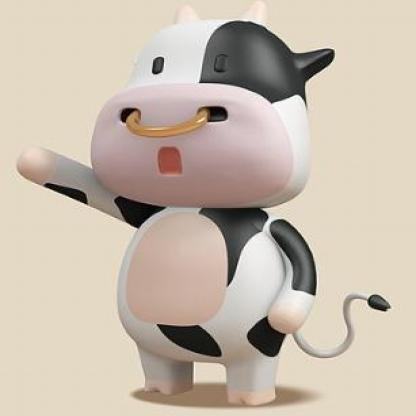cow: (14, 0, 392, 406)
